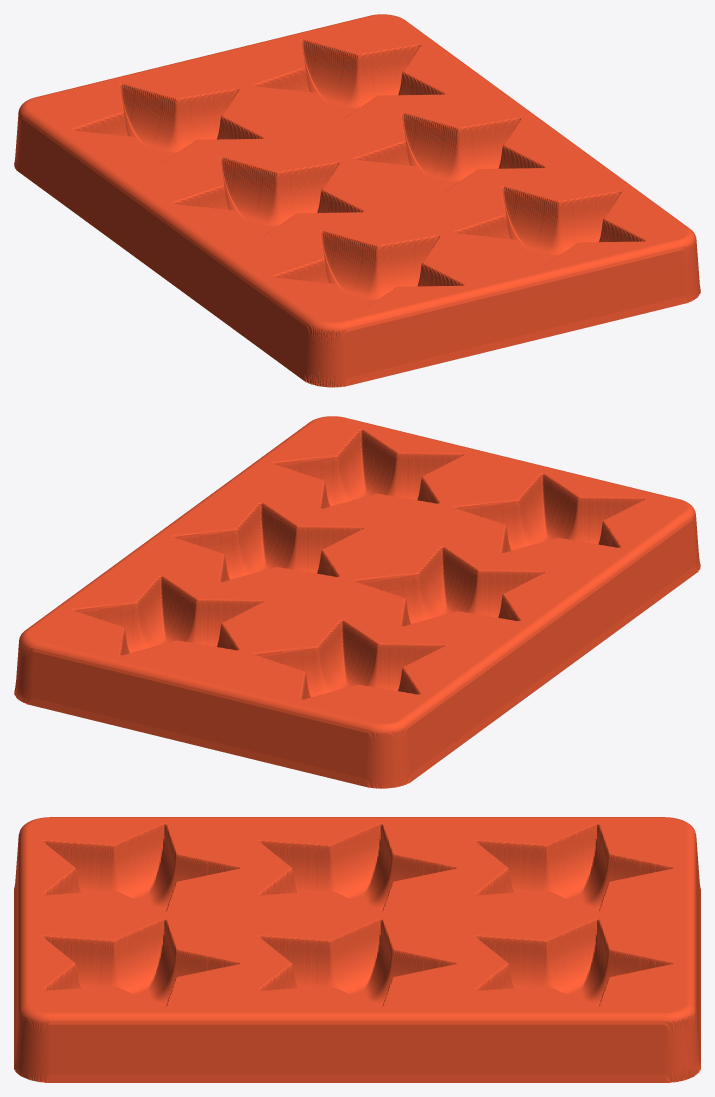
File: mold.glb
3 views of the same model, one above another, from view 1: azimuth 30°, elevation 25°; view 2: azimuth 150°, elevation 25°; view 3: azimuth 270°, elevation 25° (orthographic). The views are drawn at different scales.
Parts seen in each view (by area): view 1: geometry_0; view 2: geometry_0; view 3: geometry_0.
Boxes of the visible parts, left/top/right/bottom form: geometry_0: left=14, top=14, right=700, bottom=387; geometry_0: left=14, top=416, right=700, bottom=788; geometry_0: left=14, top=817, right=700, bottom=1082.
Bounding box in the file's own units: 0.1211 × 0.0175 × 0.17.
